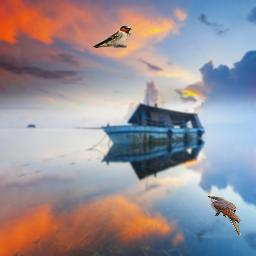Cuckoo: (207, 196, 241, 236)
Swallow: (92, 25, 132, 48)
